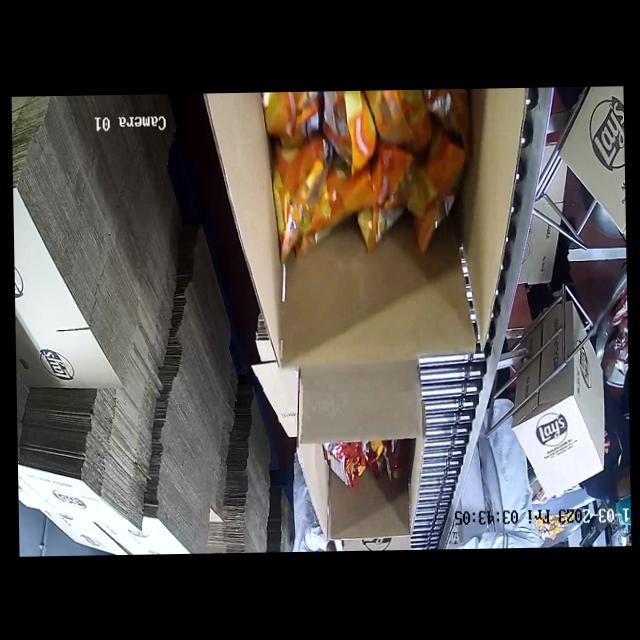cheese: (277, 88, 469, 248)
masala: (312, 432, 403, 484)
